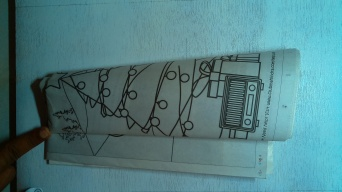p: (38, 48, 300, 182)
